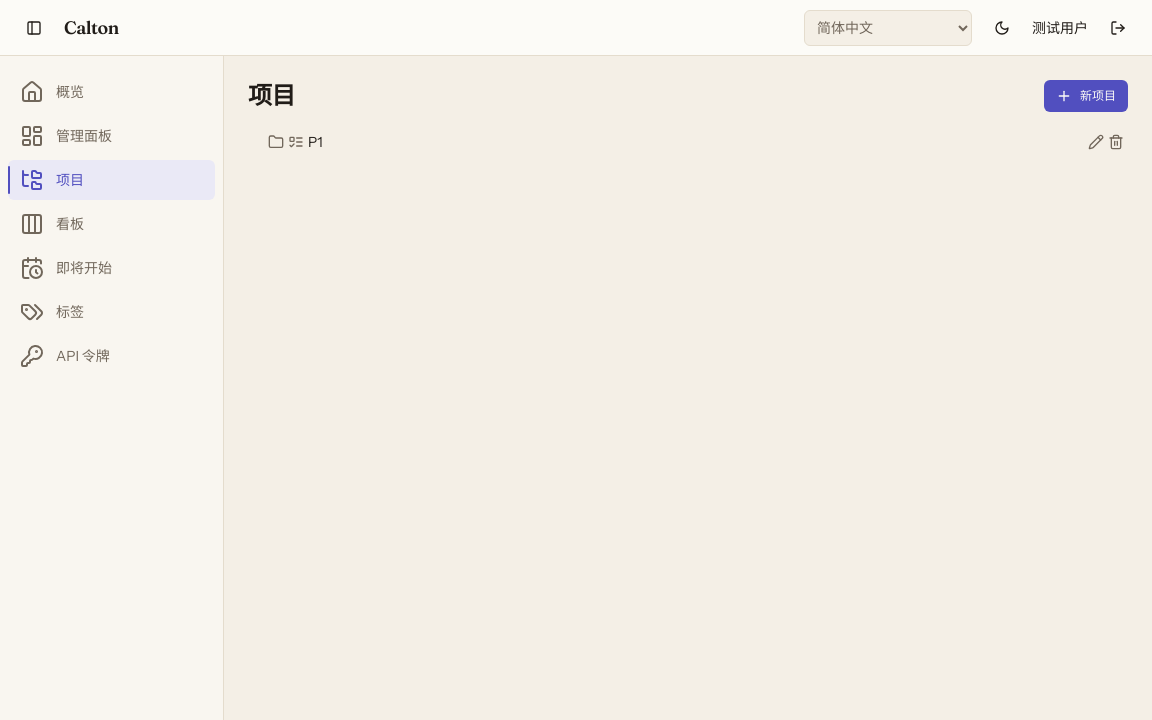
项目页 · 展开任务/子任务 › 再次点击收起任务
The width and height of the screenshot is (1152, 720).
Expected: the list "P1" is shown, [248,128,1128,156]
Click the button with test id "project-tasks-toggle-1" at [296, 142], box [288,134,304,150]
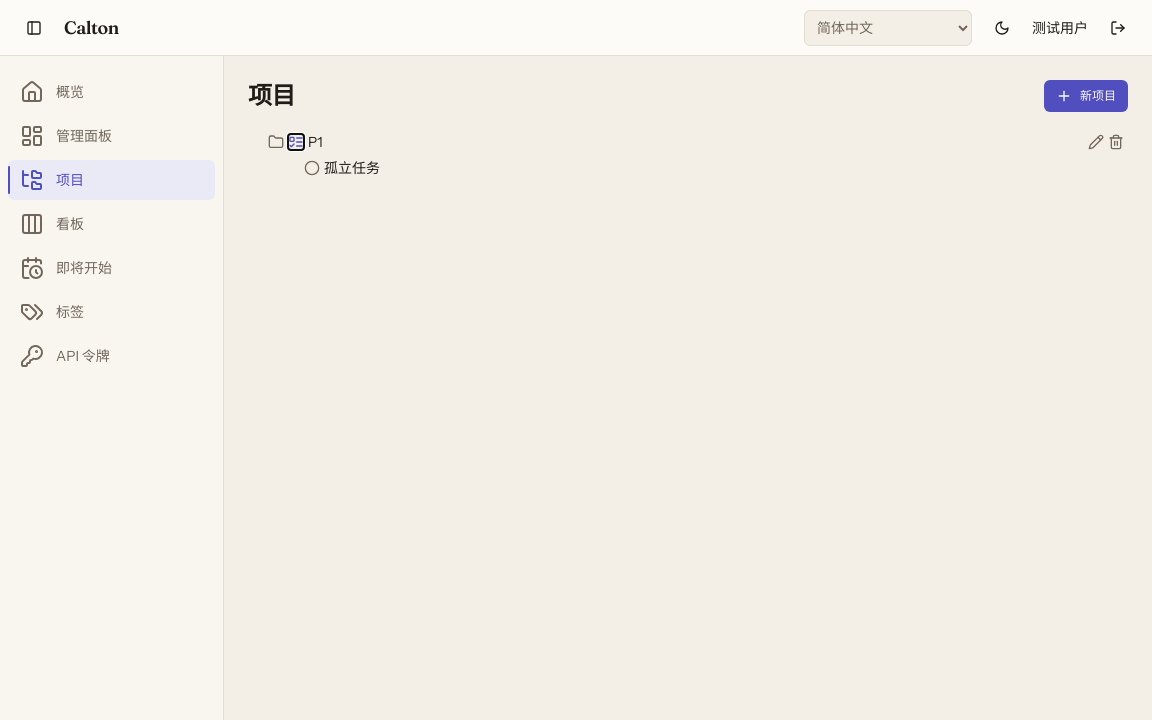
Expected: the link with test id "project-task-10" is shown, [324,158,380,178]
Click the button with test id "project-tasks-toggle-1" at [296, 142], box [288,134,304,150]
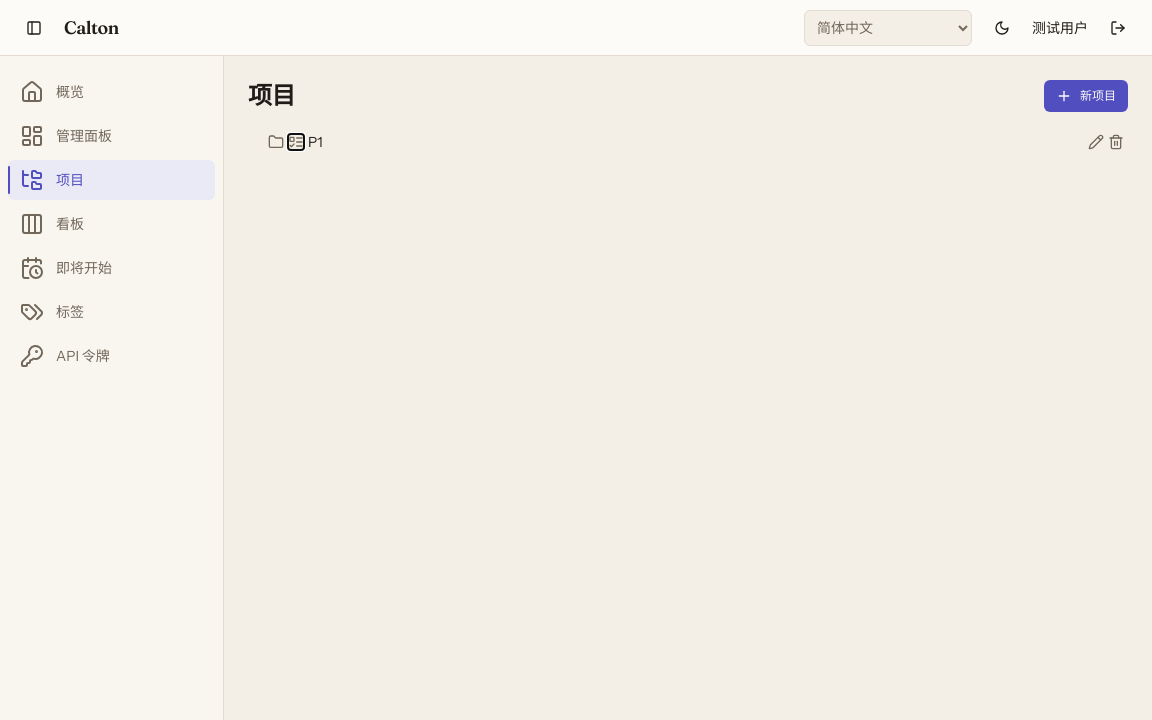
Expected: the link with test id "project-task-10" is gone
